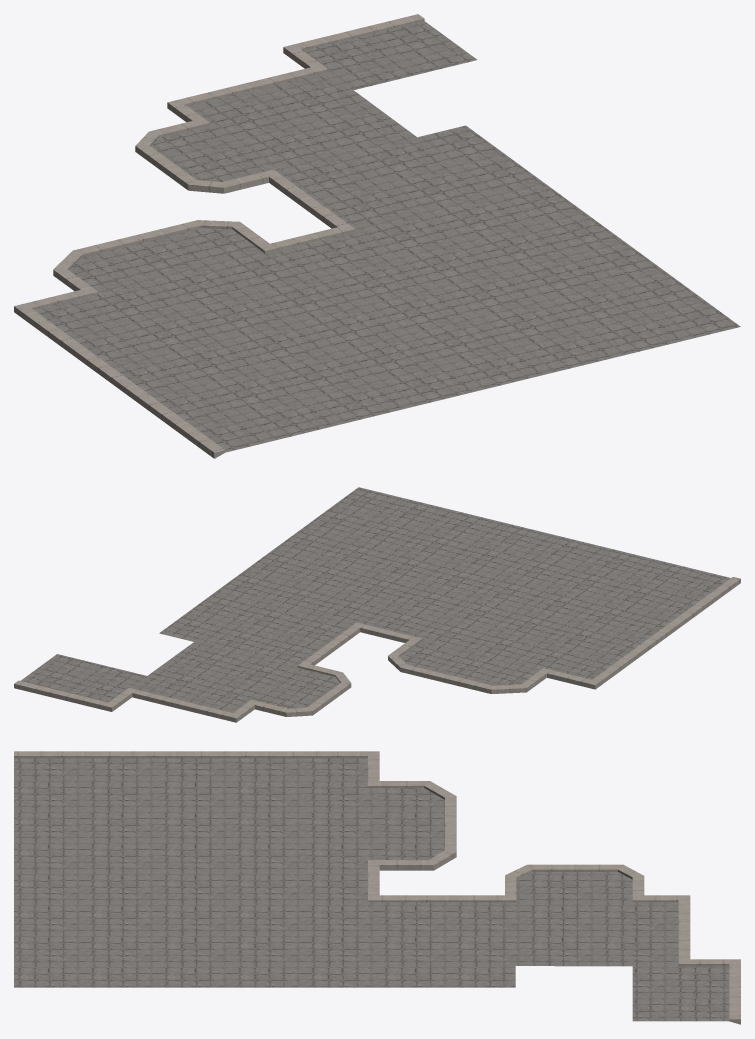
File: TownGroundTile_L.fbx
The picture shows the model from 3 angles, top to bottom: view 1: azimuth 30°, elevation 25°; view 2: azimuth 150°, elevation 25°; view 3: azimuth 270°, elevation 25°; orthographic projection. The views are drawn at different scales.
Visible parts, largest first — view 1: TownGroundTile_L; view 2: TownGroundTile_L; view 3: TownGroundTile_L.
Part boxes in pixels (left/top/right/bottom): TownGroundTile_L: left=14, top=14, right=740, bottom=458; TownGroundTile_L: left=14, top=487, right=740, bottom=722; TownGroundTile_L: left=14, top=751, right=740, bottom=1024.
Bounding box in the file's own units: 4636 × 44.62 × 5314.
2 materials, 2 textured.
